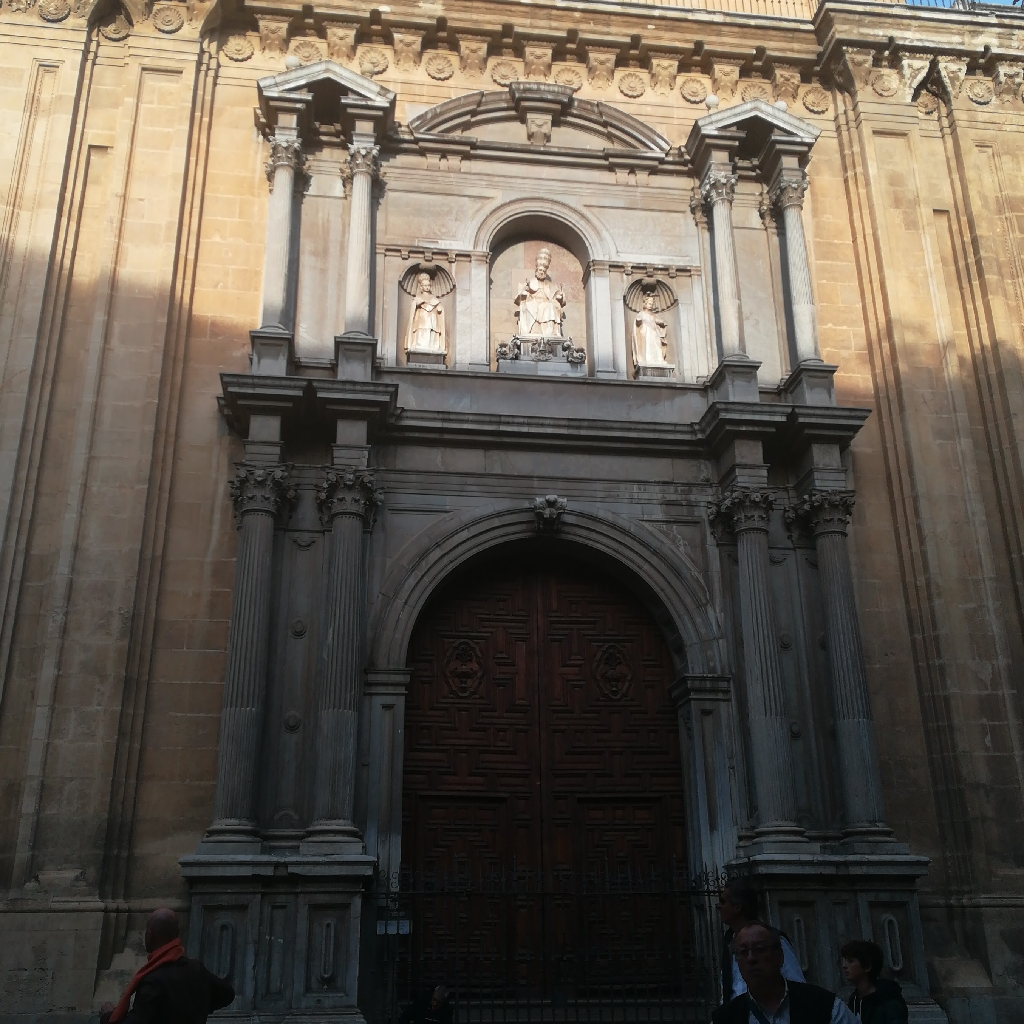arco-medio-punto: (395, 525, 708, 732), (477, 203, 603, 283)
fronton-curvo: (409, 83, 672, 162)
fronton-partido: (254, 57, 398, 109), (695, 98, 822, 150)
serliana: (373, 189, 705, 387)
